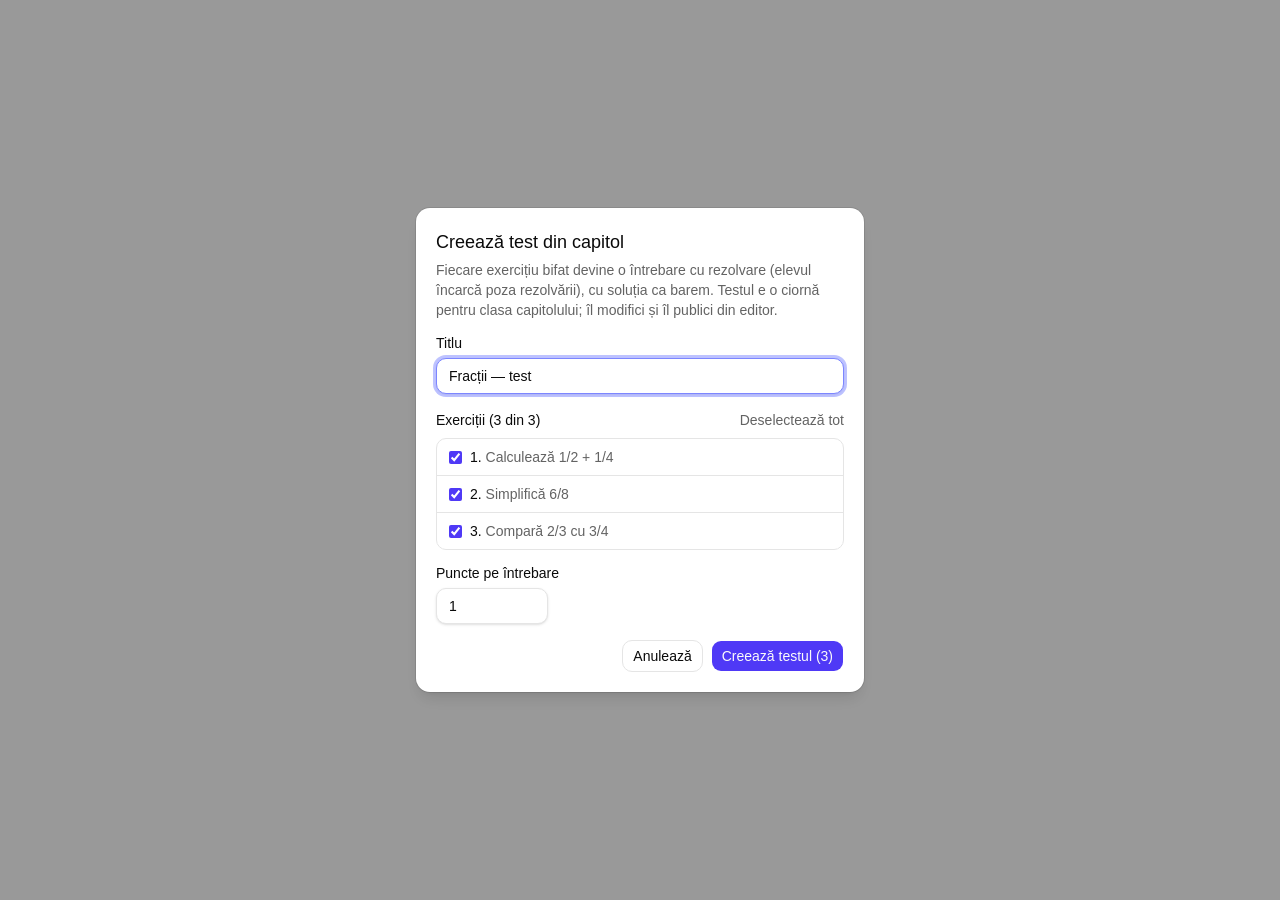
Scenario: ChapterQuizDialog › cannot create a quiz with nothing ticked
The image size is (1280, 900).
Click the button "Deselectează tot" at (792, 420), box [740, 410, 844, 430]
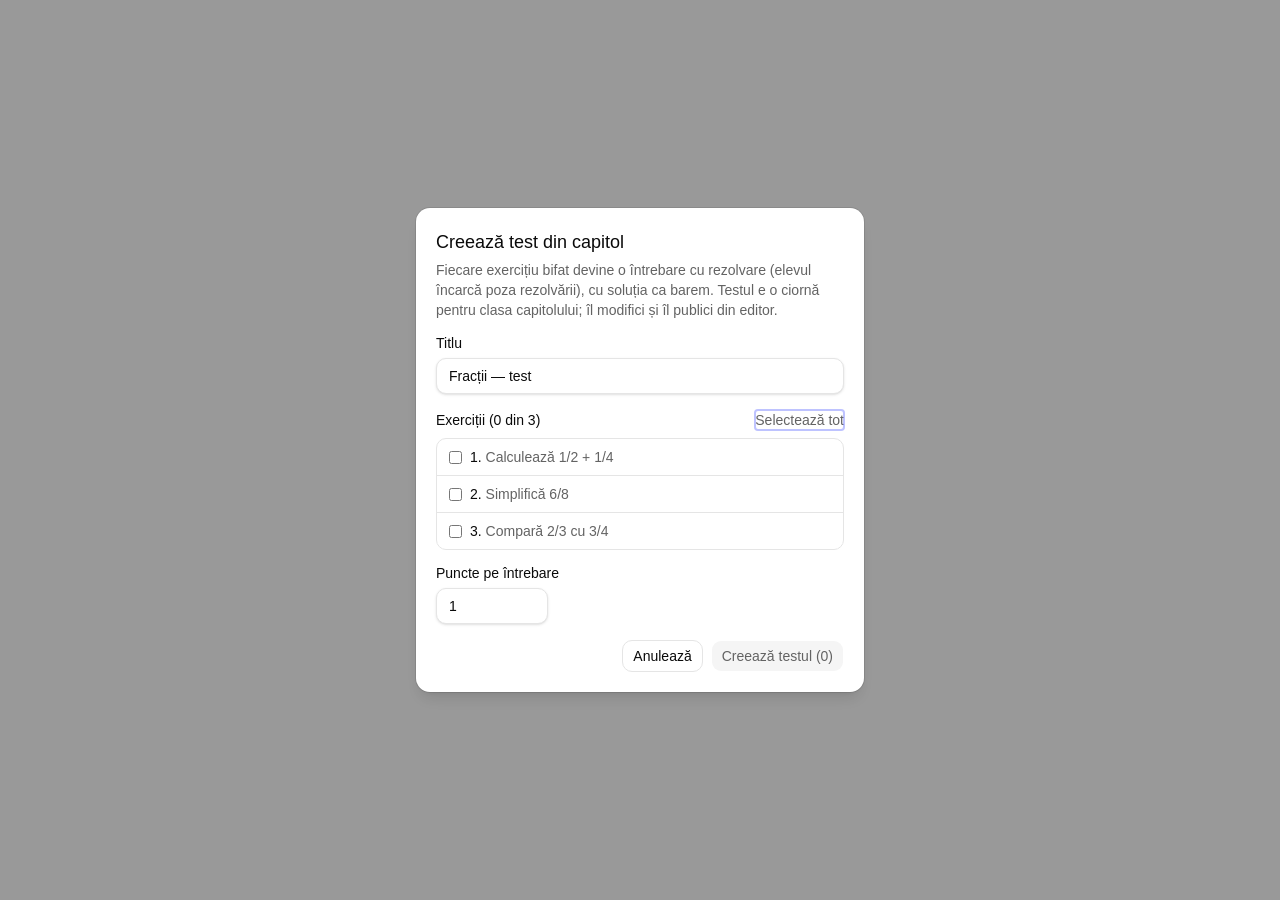
Now the button "Creează testul (0)" is disabled, box [711, 640, 844, 672]
